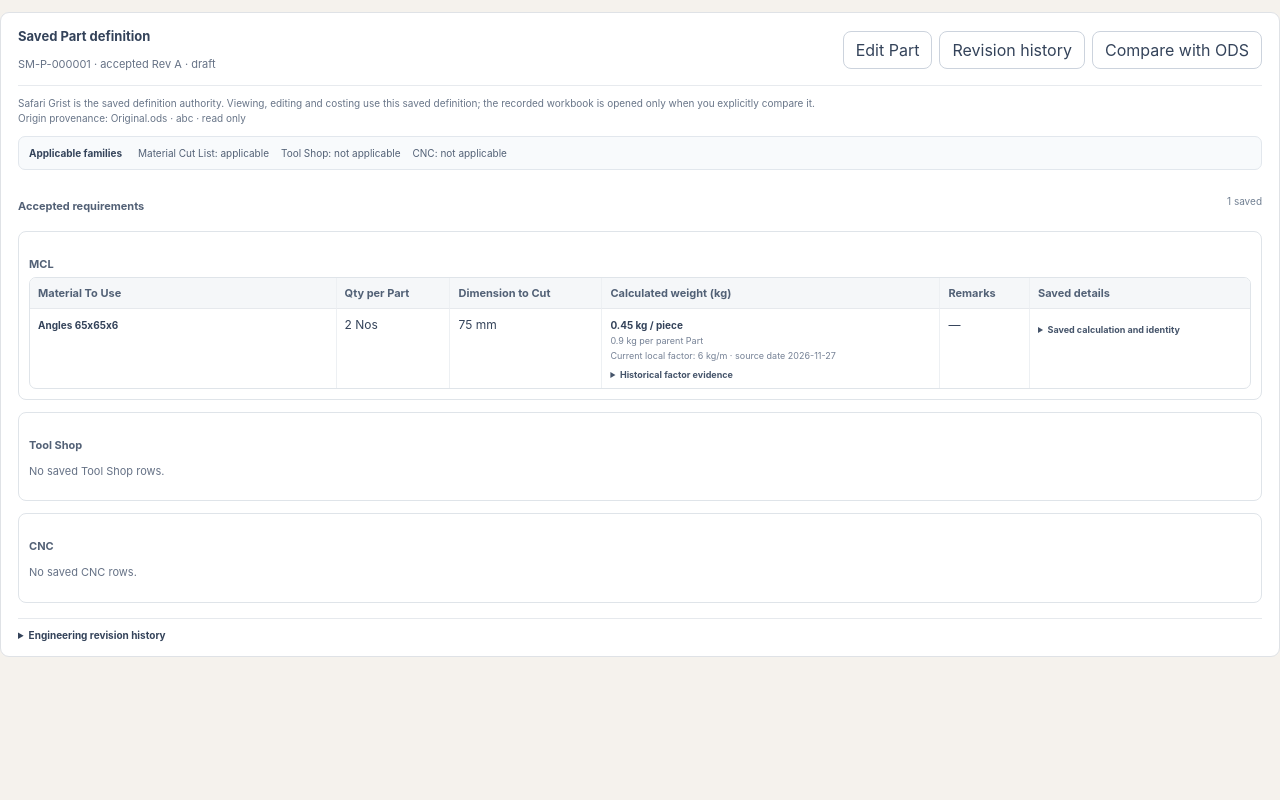
uses current local mass factors while retaining historical evidence and alias-selected identity
The width and height of the screenshot is (1280, 800).
expect the text "0.45 kg / piece" is shown: met, box [610,318,683,330]
expect the text "0.9 kg per parent Part" is shown: met, box [610,334,703,346]
Click the heading "Saved calculation and identity" at [1114, 329], box [1048,324,1180,334]
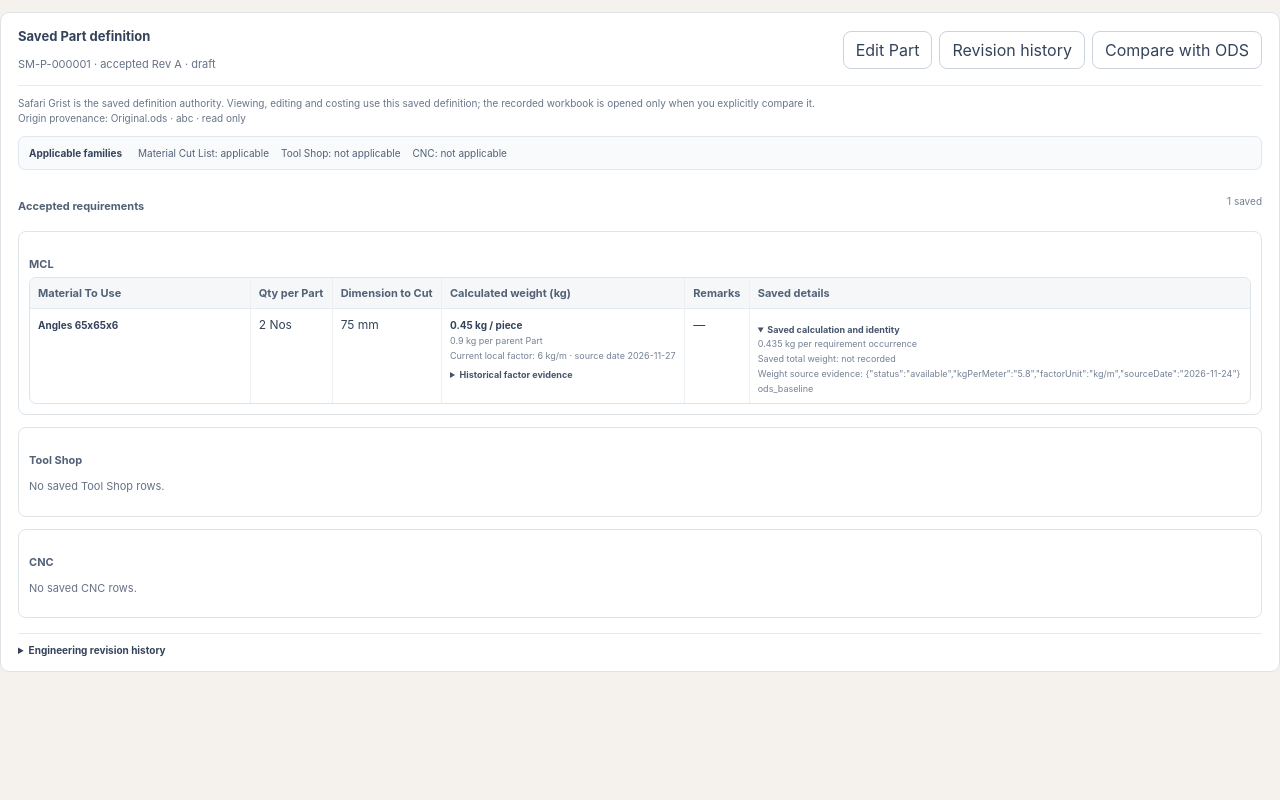
Click the heading "Historical factor evidence" at [516, 374], box [460,369,572,380]
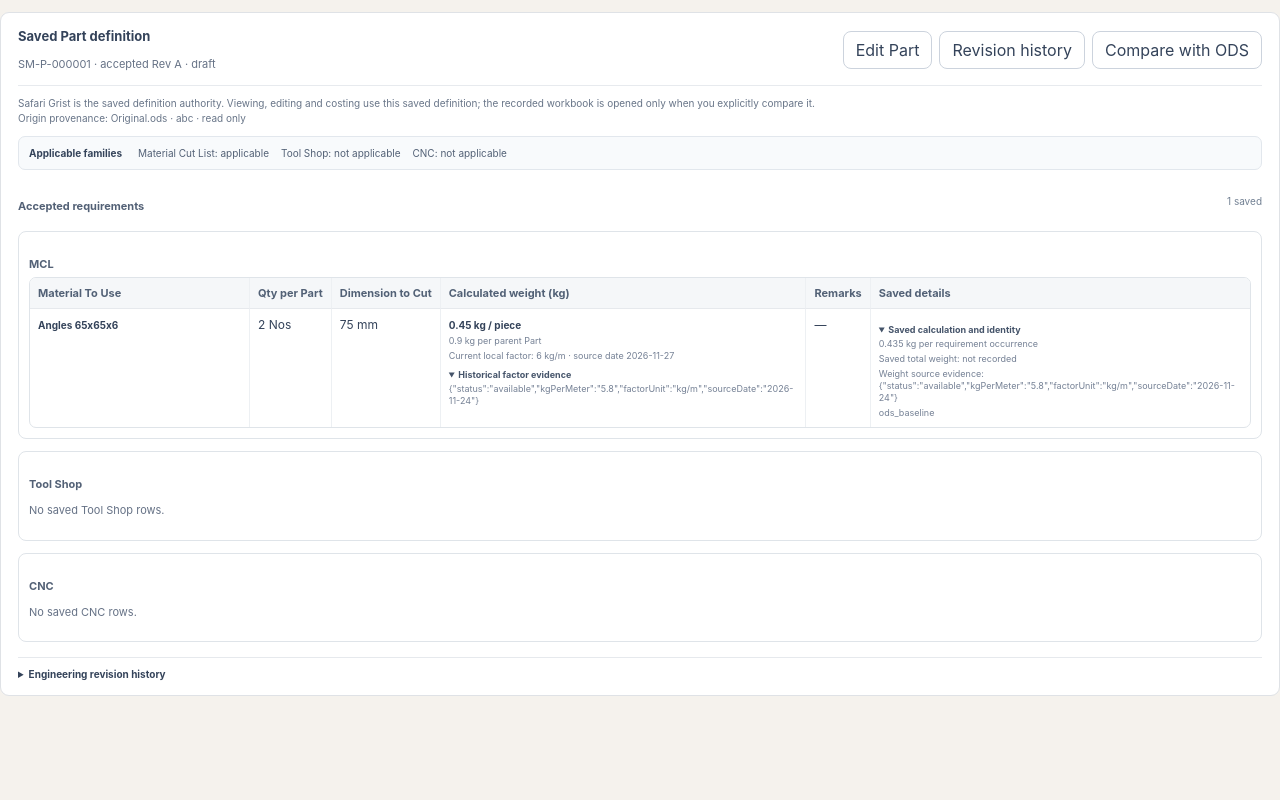
expect the text "5.8" is shown: met, box [449,383,793,406]
Click the button "Edit Part" at [888, 50], box [843,31,932,69]
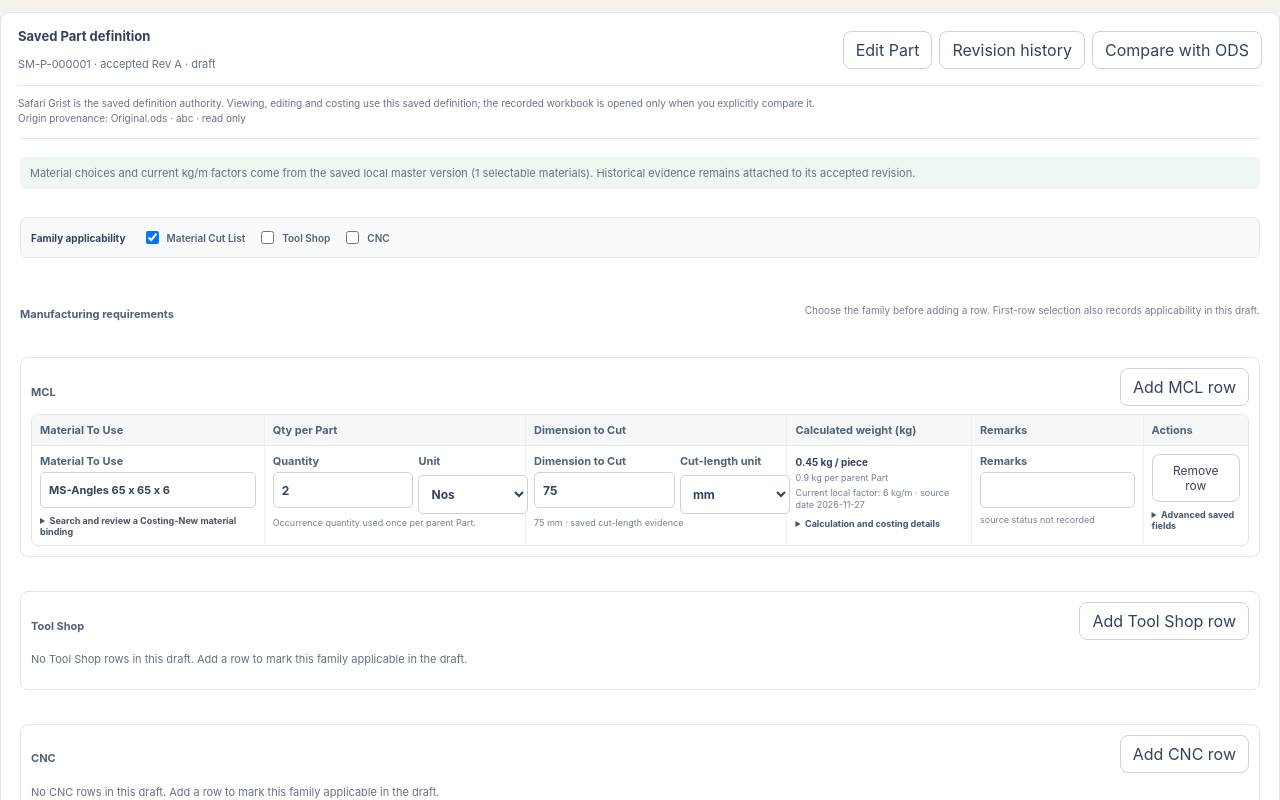
expect the dropdown named "Material To Use — MCL row 1" holds "MS-Angles 65 x 65 x 6": met
Replace the text in the dropdown named "Material To Use — MCL row 1" with "Angles 65x65x6" at [148, 490], box [40,472,256,508]
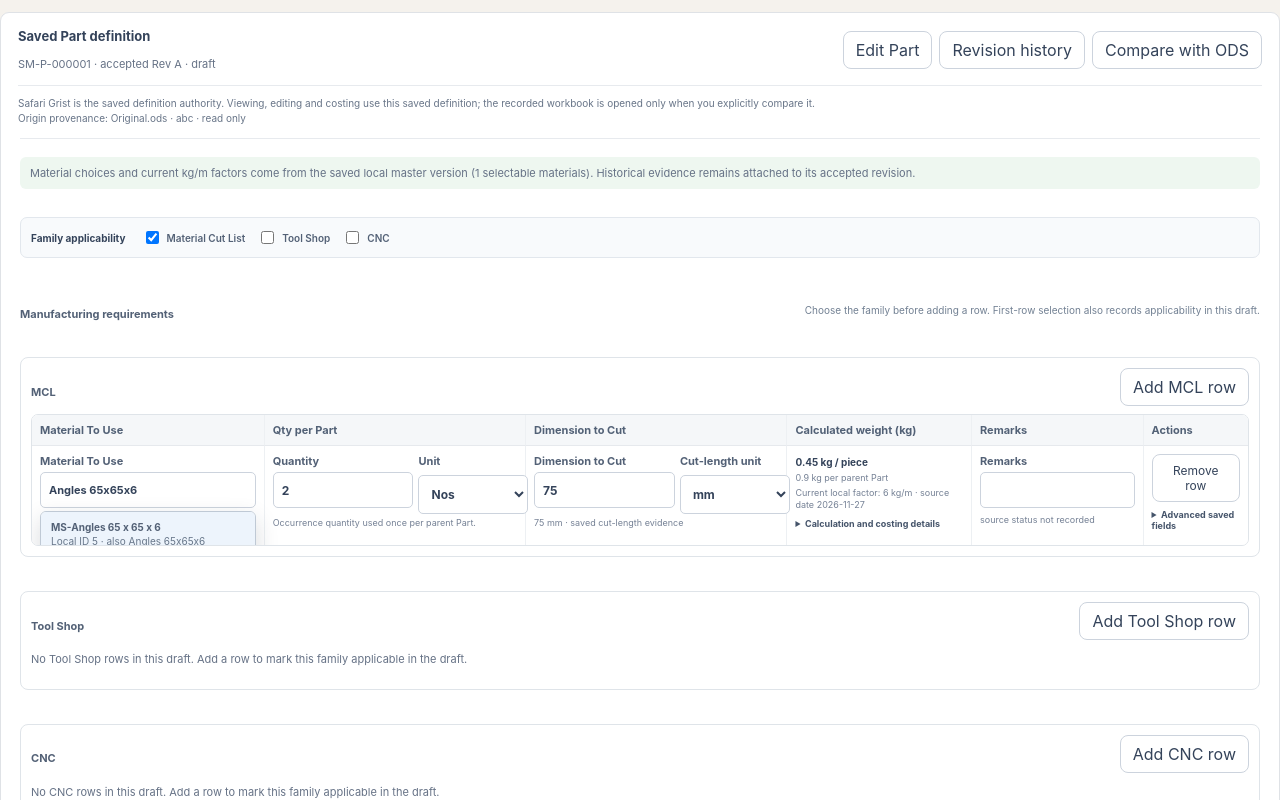
expect the option "MS-Angles 65 x 65 x 6 Local ID 5 · also Angles 65x65x6" is shown: met, box [41,512,255,546]
Press ArrowDown in the dropdown named "Material To Use — MCL row 1", box [40,472,256,508]
Press Enter in the dropdown named "Material To Use — MCL row 1", box [40,472,256,508]
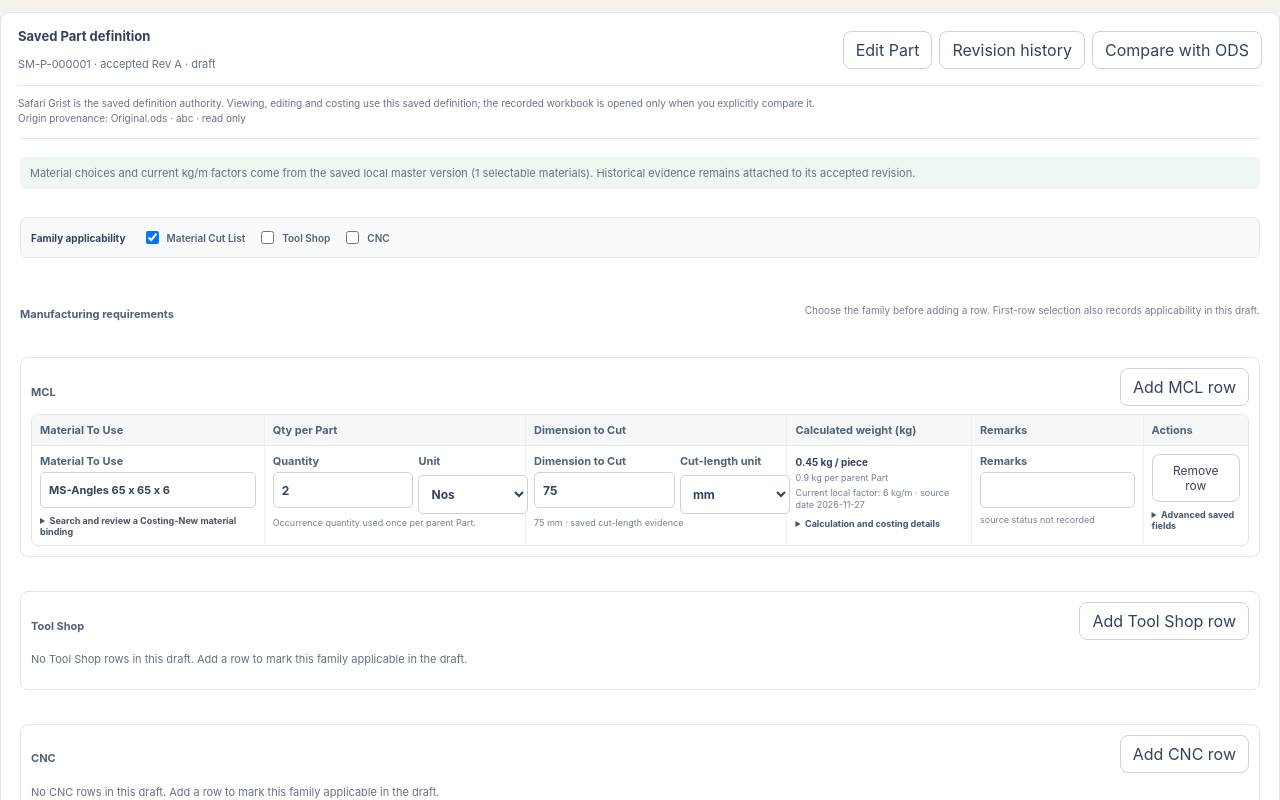
expect the text "0.45 kg / piece" is shown: met, box [796,456,868,468]
expect the dropdown named "Material To Use — MCL row 1" holds "MS-Angles 65 x 65 x 6": met, box [40,472,256,508]
